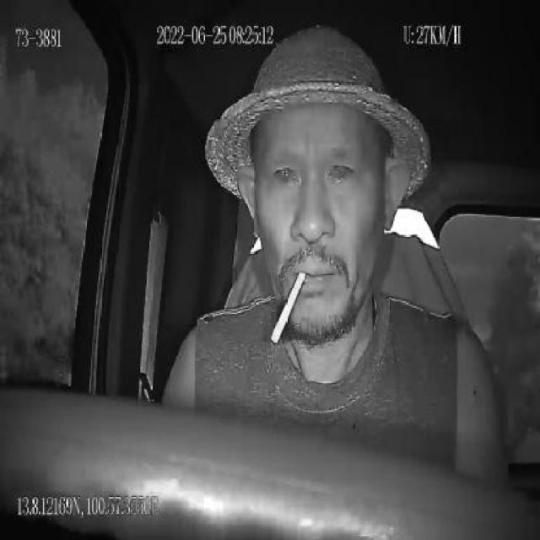smoking: (268, 272, 307, 346)
